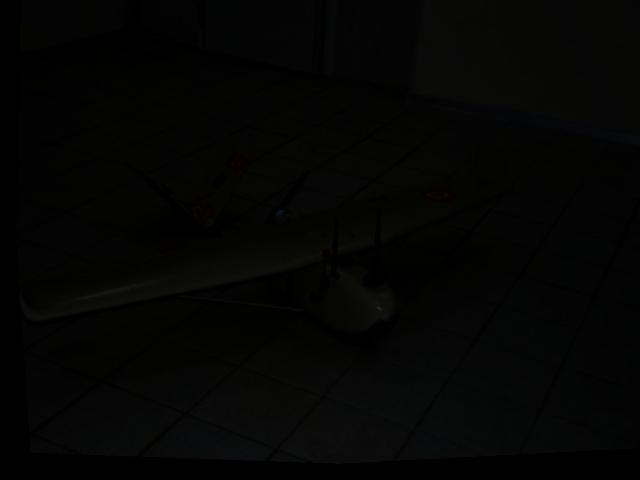iha: (7, 122, 514, 365)
